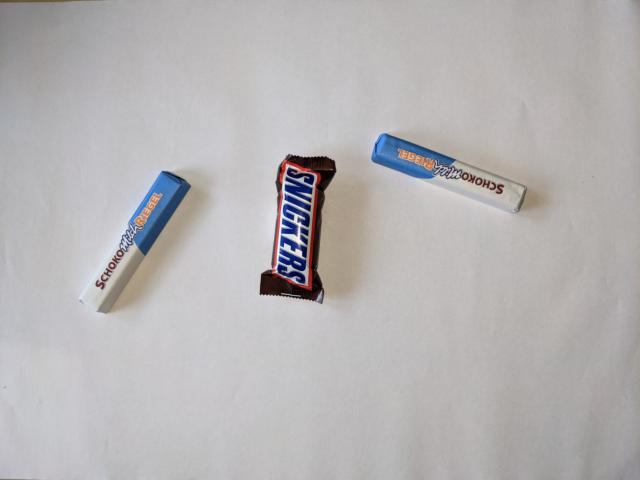Schokoriegel: (74, 168, 194, 317), (368, 130, 530, 218)
Snickers: (256, 152, 339, 307)
